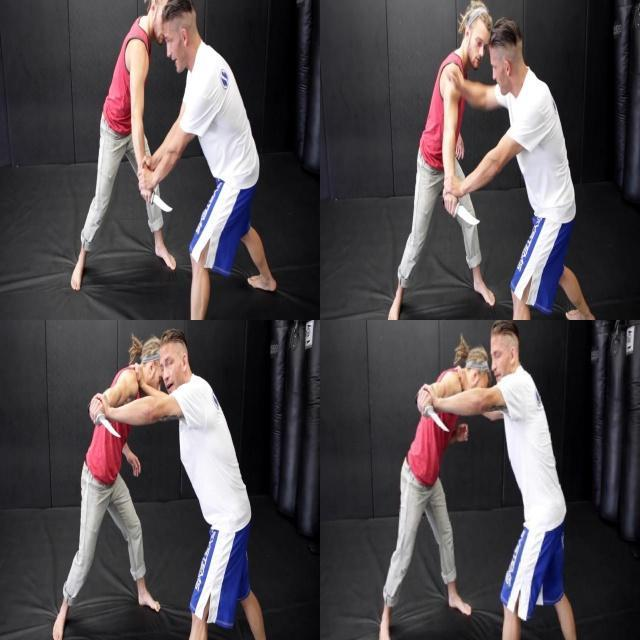-: (412, 390, 452, 437), (85, 398, 123, 439), (441, 196, 482, 229), (137, 187, 174, 214)
